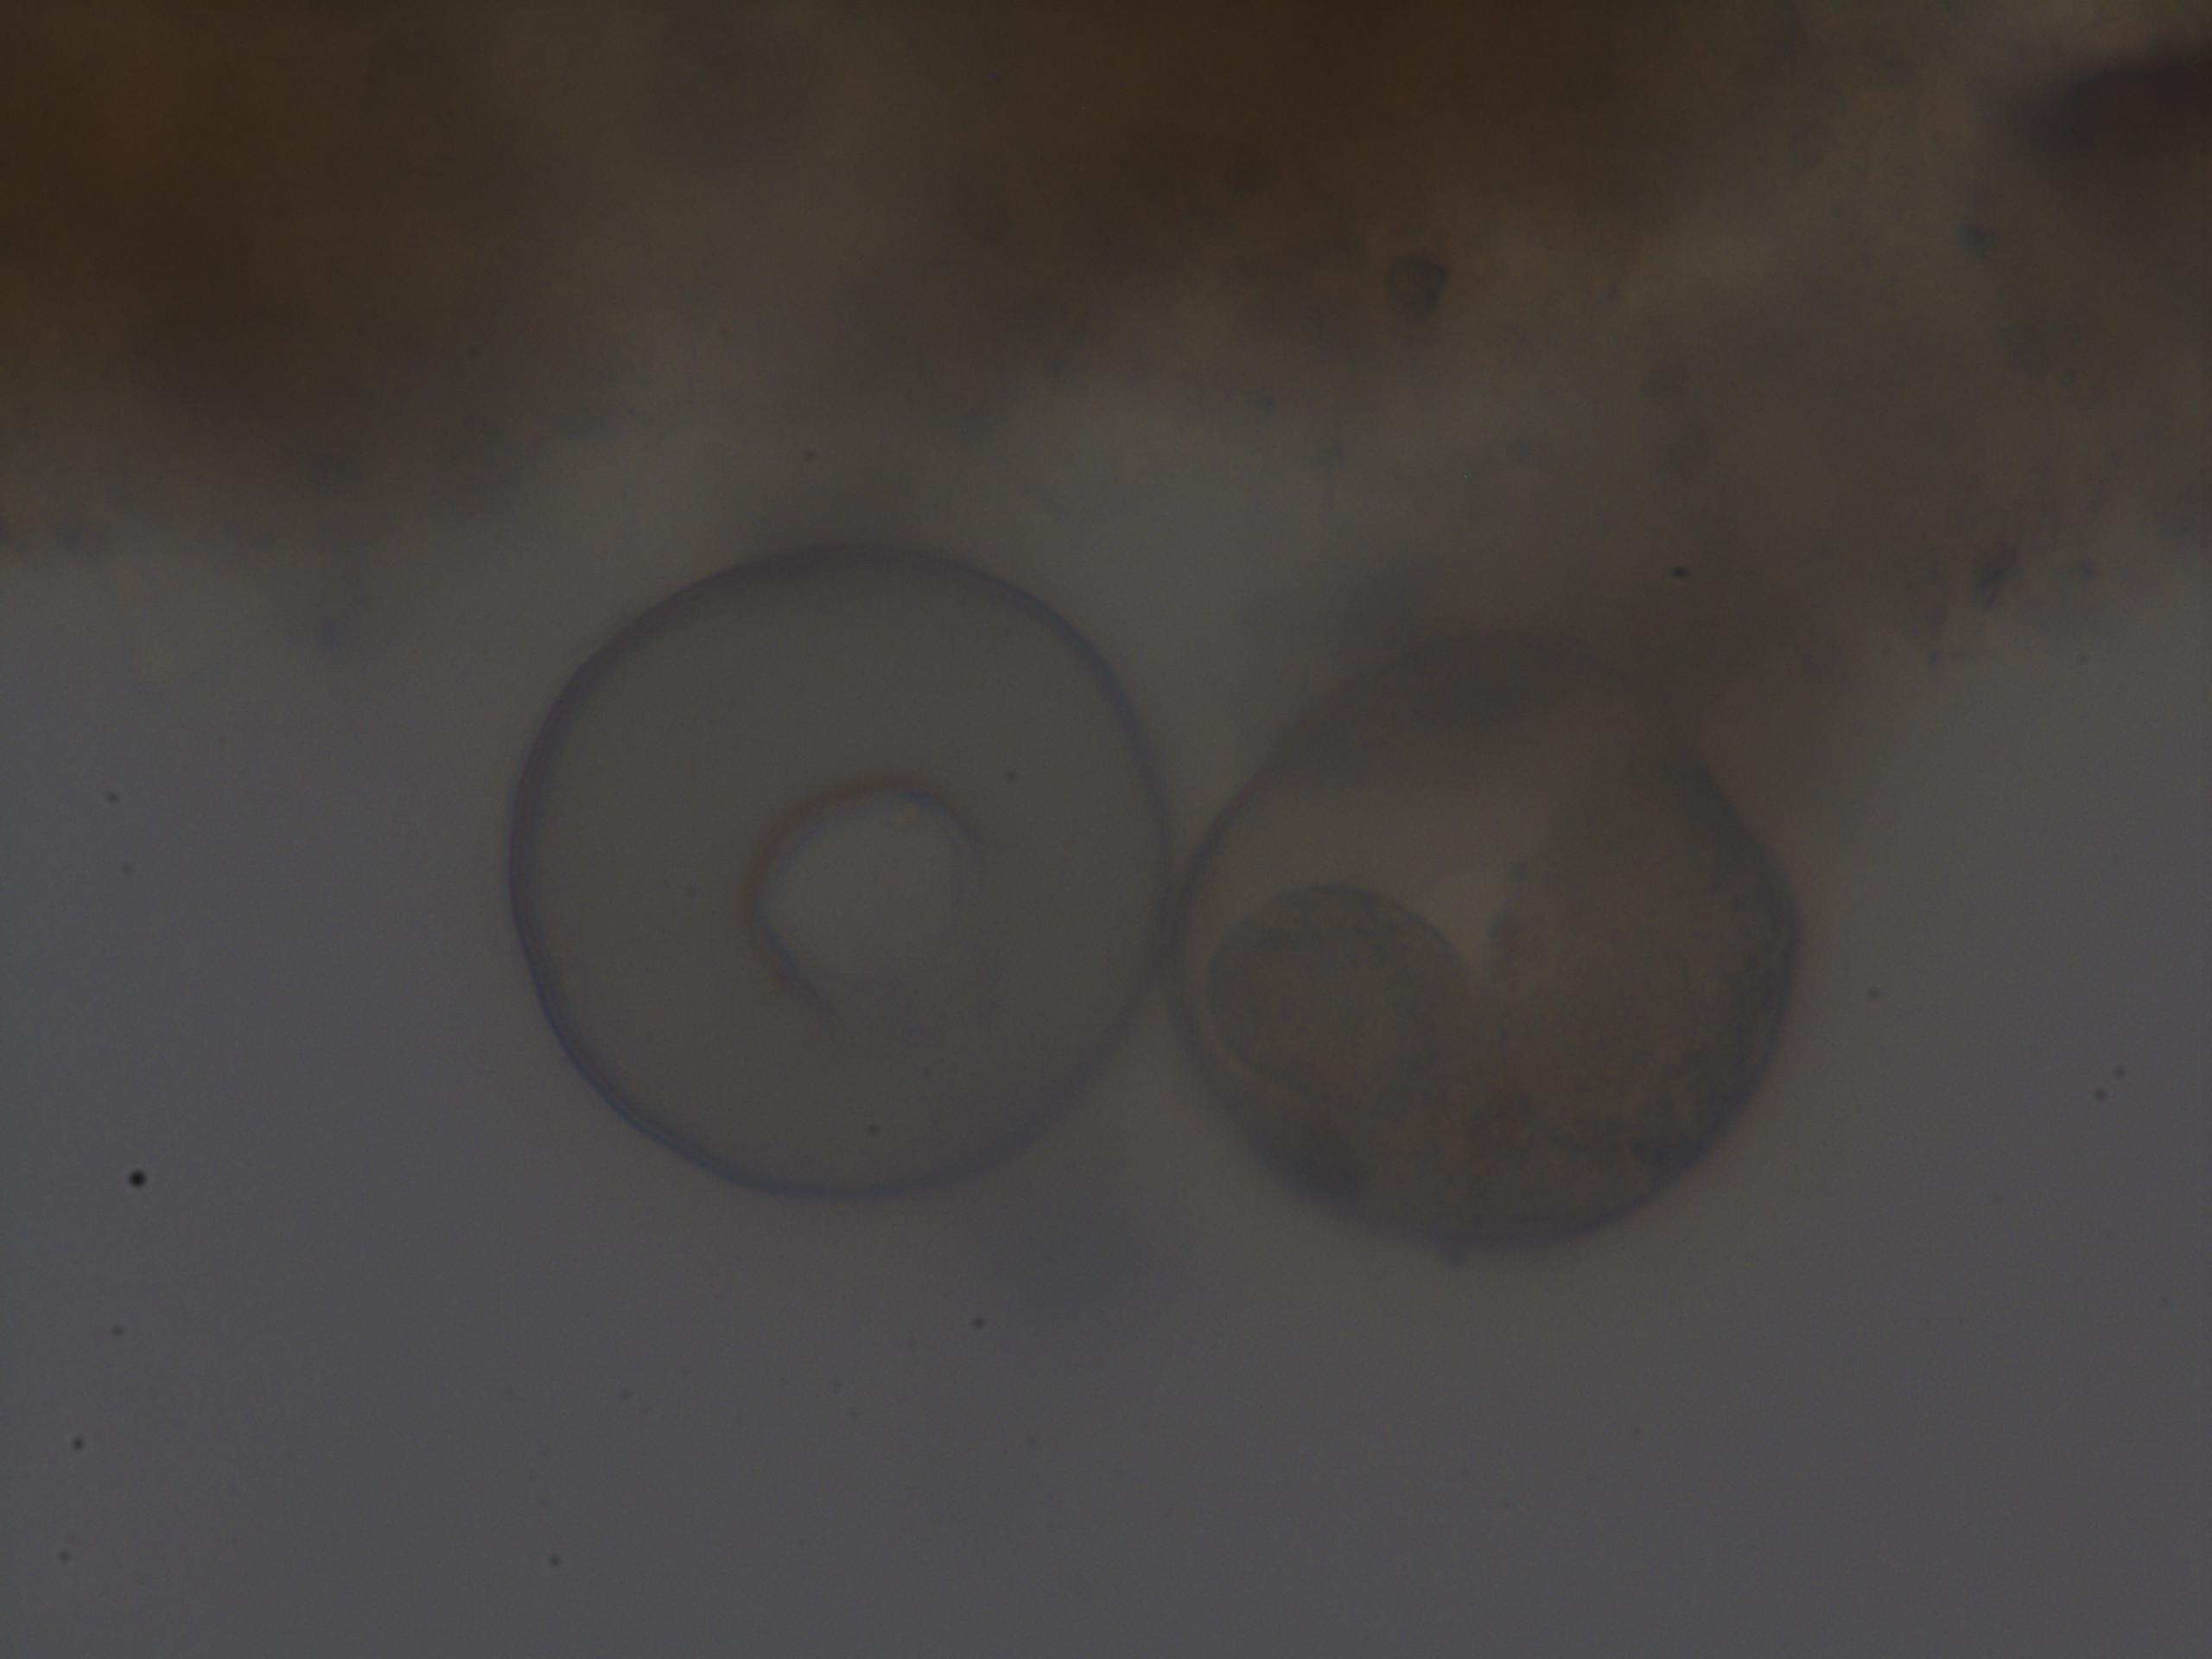protozoa: (493, 528, 1169, 1222), (1160, 631, 1818, 1260)
